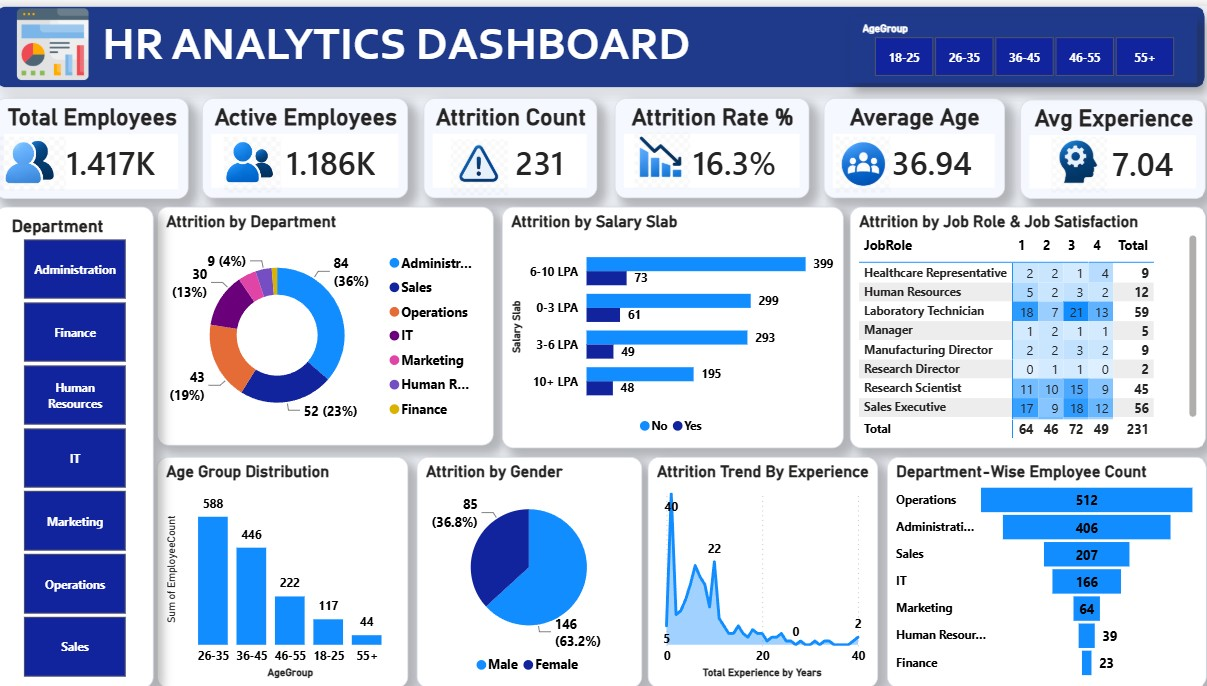

This screenshot's page, from the dashboard's own definition file:
{"tool":"powerbi","page":{"name":"Page 1","canvas":[1280,720],"ordinal":0},"visuals":[{"type":"textbox","box":[10,0,1259,85],"z":0},{"type":"image","box":[30.6,0,80.6,79],"z":1000},{"type":"cardVisual","title":"Total Employees","fields":{"Data":["CountNonNull(hr-data.EmpID)"]},"box":[10,95,201.7,105],"z":2000},{"type":"cardVisual","title":"Active Employees","fields":{"Data":["CountNonNull(hr-data.EmployeeCount)"]},"box":[226,96,214,104],"z":3000},{"type":"cardVisual","title":"Attrition Count","fields":{"Data":["Sum(hr-data.AttritionCount)"]},"box":[456,96,180,104],"z":4000},{"type":"cardVisual","title":"Attrition Rate %","fields":{"Data":["hr-data.Attrition Rate %"]},"box":[654,96,202,104],"z":5000},{"type":"cardVisual","title":"Average Age","fields":{"Data":["Avg(hr-data.Age)"]},"box":[872,96,188,104],"z":6000},{"type":"cardVisual","title":"Avg Experience","fields":{"Data":["Avg(hr-data.YearsatCompany)"]},"box":[1075,96.7,193.3,103.3],"z":7000},{"type":"image","box":[230,136,96,58],"z":8000},{"type":"image","box":[2,136,96,56],"z":9000},{"type":"image","box":[466,138,96,58],"z":10000},{"type":"image","box":[1088,136,96,58],"z":11000},{"type":"image","box":[864,136,96,58],"z":12000},{"type":"image","box":[656,132,96,58],"z":13000},{"type":"donutChart","title":"Attrition by Department","fields":{"Category":["hr-data.Department"],"Y":["Sum(hr-data.AttritionCount)"]},"box":[178.3,209,350,248.3],"z":14000},{"type":"clusteredBarChart","title":"Attrition by Salary Slab","fields":{"Category":["hr-data.SalarySlab"],"Y":["CountNonNull(hr-data.EmpID)"],"Series":["hr-data.Attrition"]},"box":[537,209,355,251],"z":15000},{"type":"pivotTable","title":"Attrition by Job Role & Job Satisfaction","fields":{"Rows":["hr-data.JobRole"],"Values":["Sum(hr-data.AttritionCount)"],"Columns":["hr-data.JobSatisfaction"]},"box":[898,209,371,251],"z":16000},{"type":"columnChart","title":"Age Group Distribution","fields":{"Category":["hr-data.AgeGroup"],"Y":["Sum(hr-data.EmployeeCount)"]},"box":[179,469,261,240],"z":17000},{"type":"pieChart","title":"Attrition by Gender","fields":{"Category":["hr-data.Gender"],"Y":["Sum(hr-data.AttritionCount)"]},"box":[448.6,469,234,240],"z":18000},{"type":"areaChart","title":"Attrition Trend By Experience","fields":{"Category":["hr-data.TotalExperience(Years)"],"Y2":["Sum(hr-data.AttritionCount)"]},"box":[689,469,239,240],"z":19000},{"type":"funnel","title":"Department-Wise Employee Count","fields":{"Category":["hr-data.Department"],"Y":["CountNonNull(hr-data.EmpID)"]},"box":[937.1,469,332.9,240],"z":20000},{"type":"slicer","fields":{"Values":["hr-data.Department"]},"box":[9.6,209,165,500],"z":21000},{"type":"slicer","fields":{"Values":["hr-data.AgeGroup"]},"box":[898,12,361,68],"z":21001}]}

Visuals, with their boxes in screenshot pixels (x1, y1, x2, y2), scaled from the page's 1280x720 canvas onto the 1207x686 screenshot:
textbox: 9/0/1197/81
image: 29/0/105/75
"Total Employees" cardVisual: 9/91/200/191
"Active Employees" cardVisual: 213/91/415/191
"Attrition Count" cardVisual: 430/91/600/191
"Attrition Rate %" cardVisual: 617/91/807/191
"Average Age" cardVisual: 822/91/1000/191
"Avg Experience" cardVisual: 1014/92/1196/191
image: 217/130/307/185
image: 2/130/92/183
image: 439/131/530/187
image: 1026/130/1116/185
image: 815/130/905/185
image: 619/126/709/181
"Attrition by Department" donutChart: 168/199/498/436
"Attrition by Salary Slab" clusteredBarChart: 506/199/841/438
"Attrition by Job Role & Job Satisfaction" pivotTable: 847/199/1197/438
"Age Group Distribution" columnChart: 169/447/415/676
"Attrition by Gender" pieChart: 423/447/644/676
"Attrition Trend By Experience" areaChart: 650/447/875/676
"Department-Wise Employee Count" funnel: 884/447/1198/676
slicer - hr-data.Department: 9/199/165/676
slicer - hr-data.AgeGroup: 847/11/1187/76
